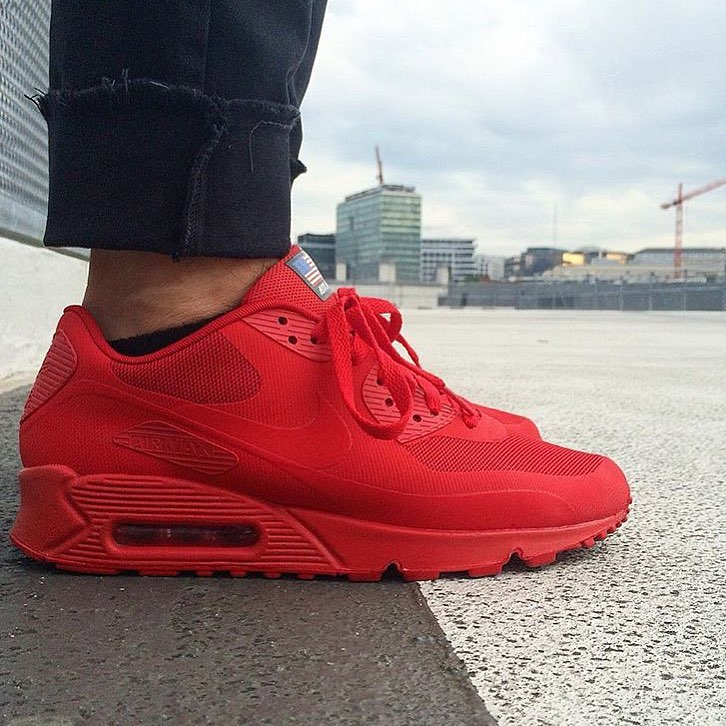sneaker: (1, 222, 656, 605)
